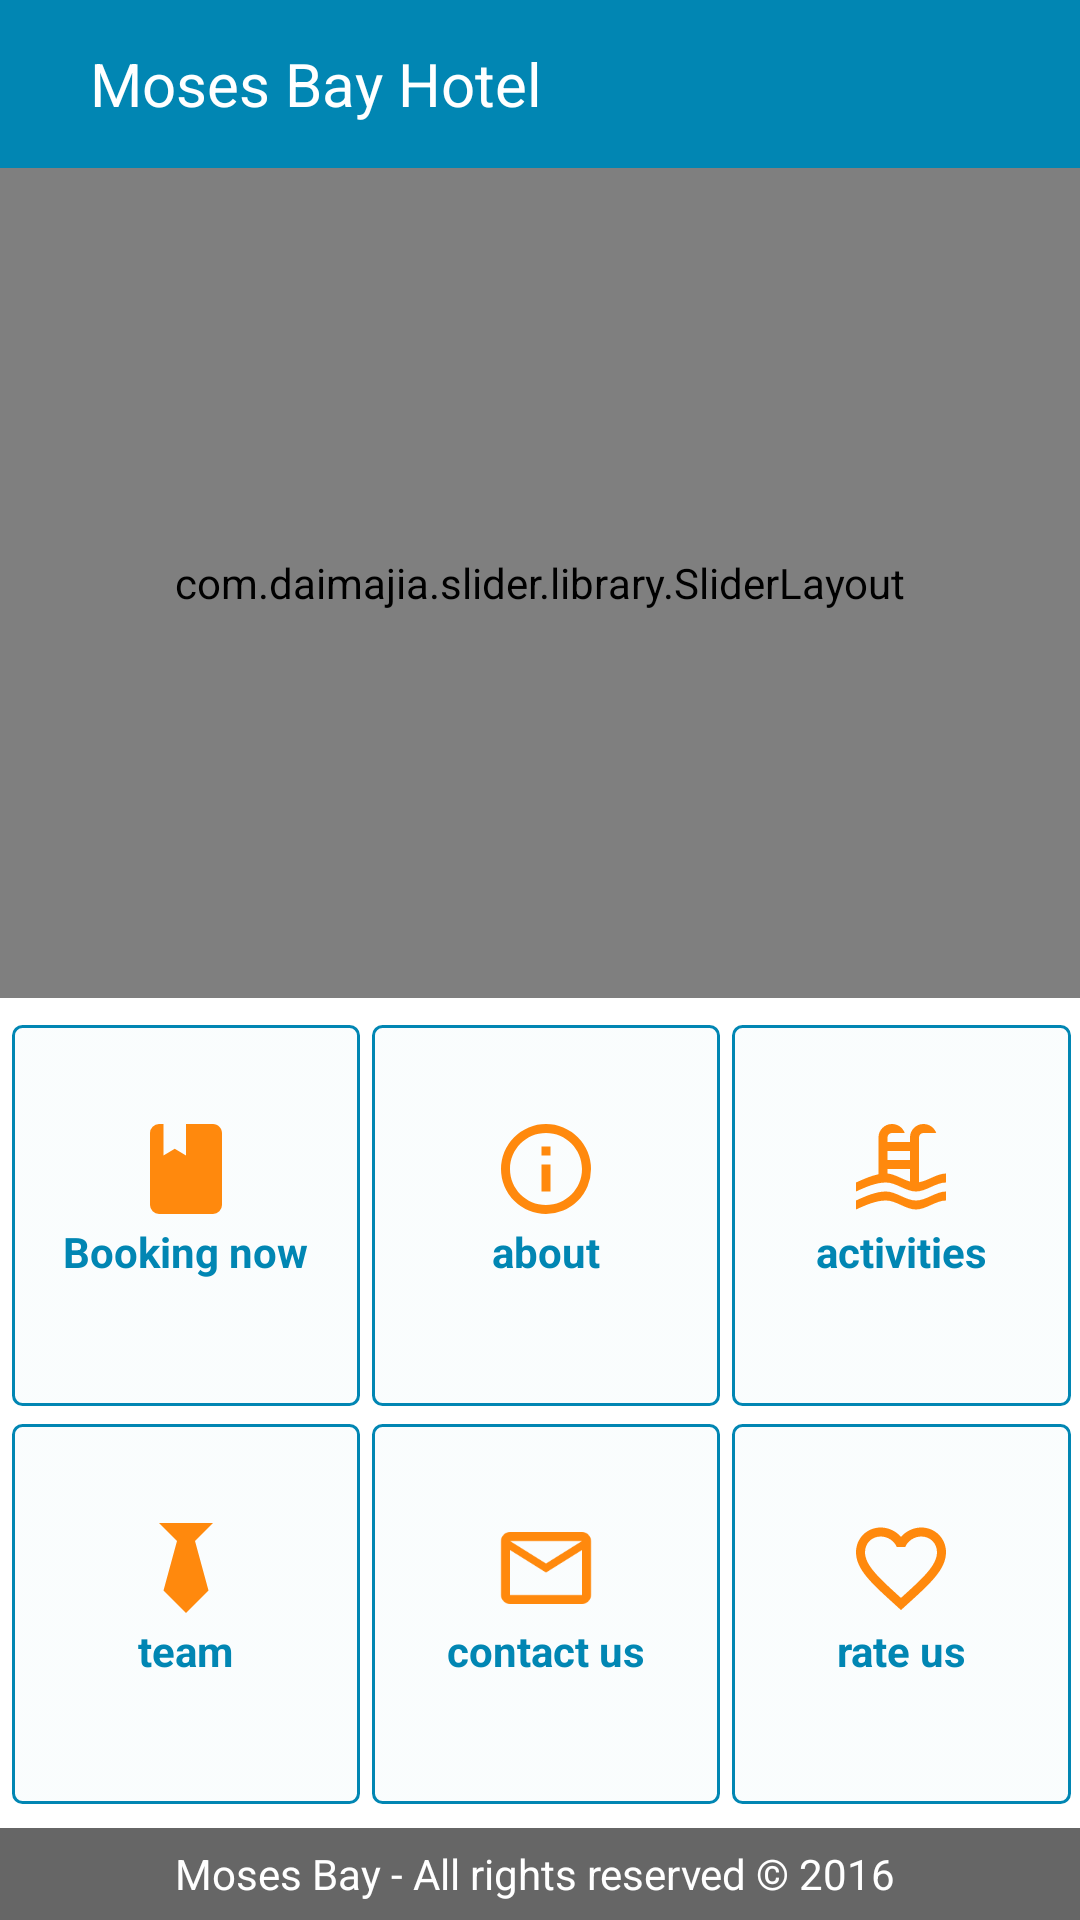

Icon bounding boxes for this 1080px×1920px phone screenshot, format (x1,y1,x2,y2):
email: (500,1532,592,1604)
heart: (856,1527,946,1610)
info: (501,1124,591,1214)
tie: (159,1523,213,1613)
